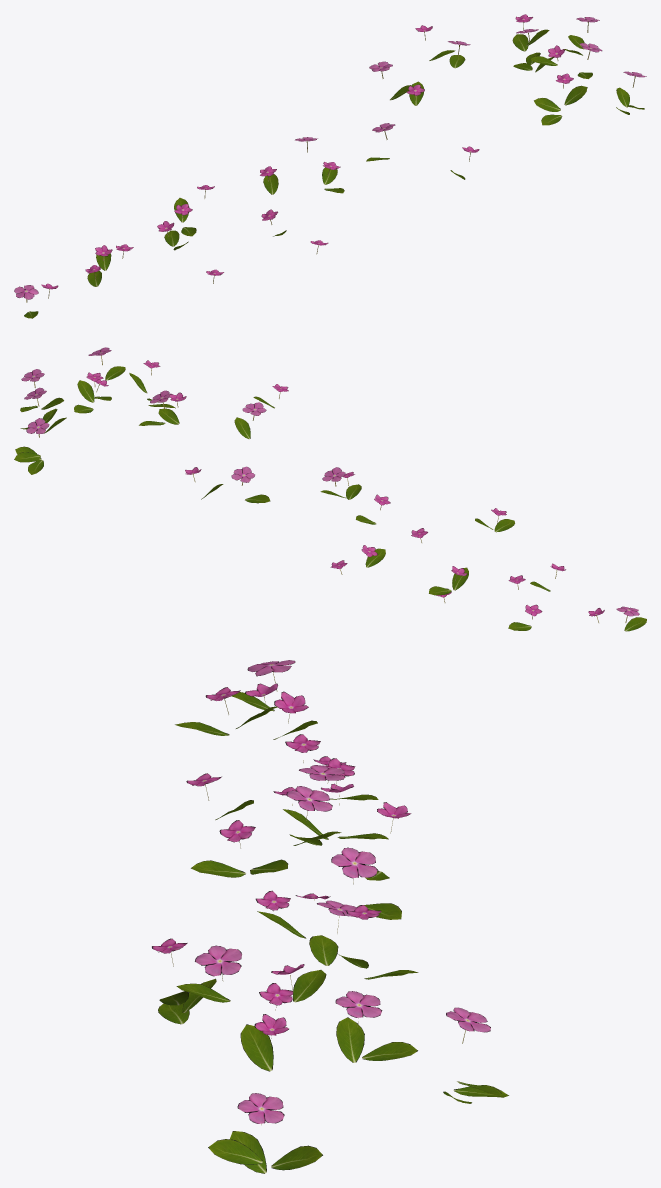
File: periwinkle_plant.glb
The picture shows the model from 3 angles, top to bottom: view 1: azimuth 30°, elevation 25°; view 2: azimuth 150°, elevation 25°; view 3: azimuth 270°, elevation 25°; orthographic projection. The views are drawn at different scales.
Visible parts, largest first — view 1: periwinkle_plant_04_LOD0; view 2: periwinkle_plant_04_LOD0; view 3: periwinkle_plant_04_LOD0.
Part boxes in pixels (x1=…): periwinkle_plant_04_LOD0: x1=14, y1=14, x2=646, y2=318; periwinkle_plant_04_LOD0: x1=14, y1=347, x2=646, y2=631; periwinkle_plant_04_LOD0: x1=152, y1=660, x2=508, y2=1173.
Bounding box in the file's own units: 1.22 × 0.3253 × 0.3069.
1 material, 1 textured.
